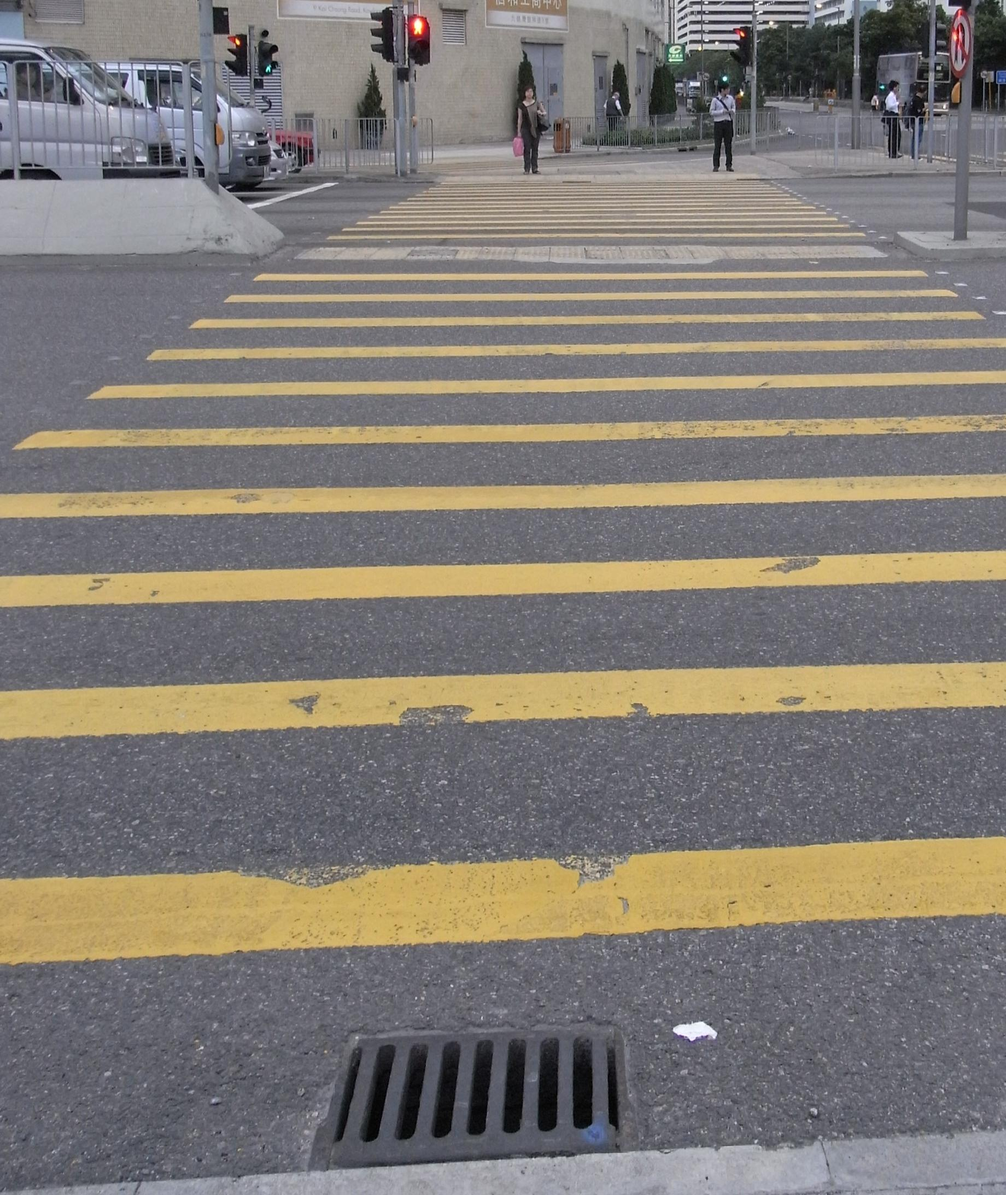crosswalk: (2, 155, 1005, 964)
